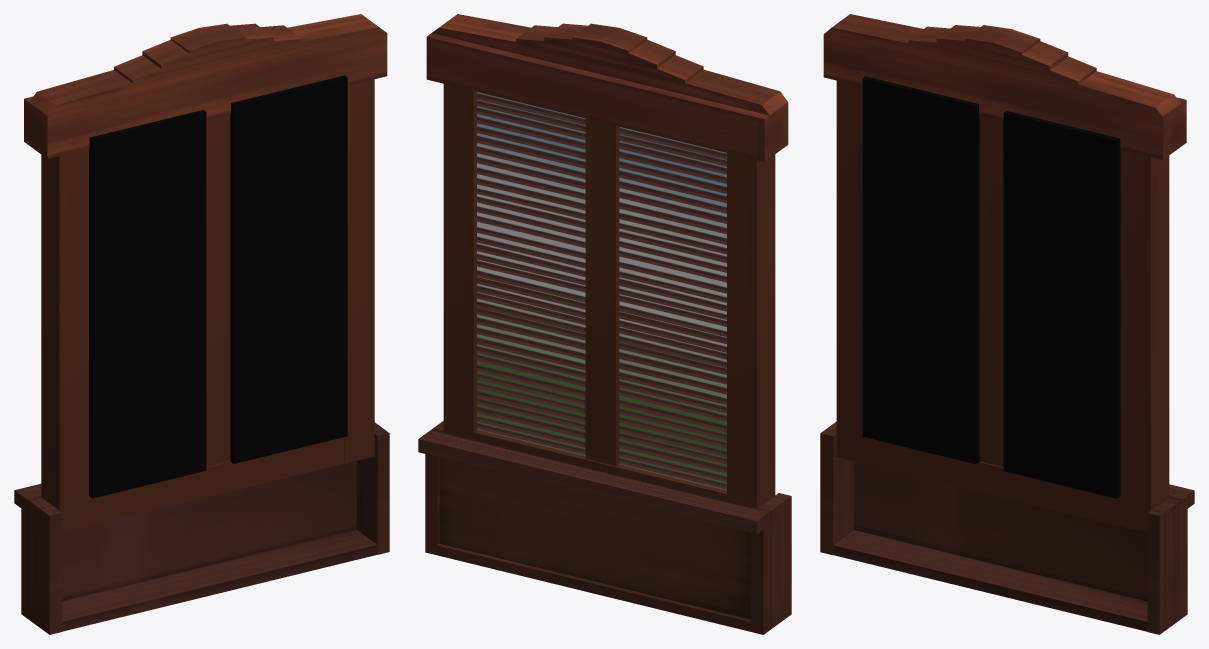
The model's file is window_mod.fbx.
3 views of the same model, side by side, from view 1: azimuth 30°, elevation 25°; view 2: azimuth 150°, elevation 25°; view 3: azimuth 330°, elevation 25° (orthographic).
Visible parts, largest first — view 1: Cube.001, Cube.015, Cube.020, Cube.021, Cube.018, Cube.017, Cube.019; view 2: Cube.020, Cube.015, Cube.001, Cube.021, Cube.018, Cube.019, Cube.017; view 3: Cube.015, Cube.001, Cube.020, Cube.021, Cube.017, Cube.018, Cube.019.
Boxes of the visible parts, left/top/right/bottom form: Cube.001: left=89, top=110, right=206, bottom=498; Cube.015: left=230, top=75, right=347, bottom=463; Cube.020: left=14, top=422, right=389, bottom=634; Cube.021: left=24, top=14, right=387, bottom=158; Cube.018: left=41, top=149, right=343, bottom=532; Cube.017: left=344, top=79, right=374, bottom=463; Cube.019: left=206, top=114, right=230, bottom=466; Cube.020: left=418, top=421, right=791, bottom=634; Cube.015: left=477, top=92, right=585, bottom=456; Cube.001: left=619, top=126, right=726, bottom=490; Cube.021: left=426, top=14, right=788, bottom=161; Cube.018: left=474, top=153, right=775, bottom=508; Cube.019: left=585, top=118, right=619, bottom=466; Cube.017: left=443, top=84, right=476, bottom=439; Cube.015: left=1003, top=111, right=1120, bottom=498; Cube.001: left=862, top=76, right=979, bottom=464; Cube.020: left=820, top=421, right=1194, bottom=634; Cube.021: left=823, top=14, right=1186, bottom=159; Cube.017: left=1120, top=150, right=1169, bottom=532; Cube.018: left=836, top=80, right=1120, bottom=526; Cube.019: left=979, top=115, right=1003, bottom=466.
Bounding box in the file's own units: 599 × 924 × 108.
Materials: 5 (5 with a texture image).
